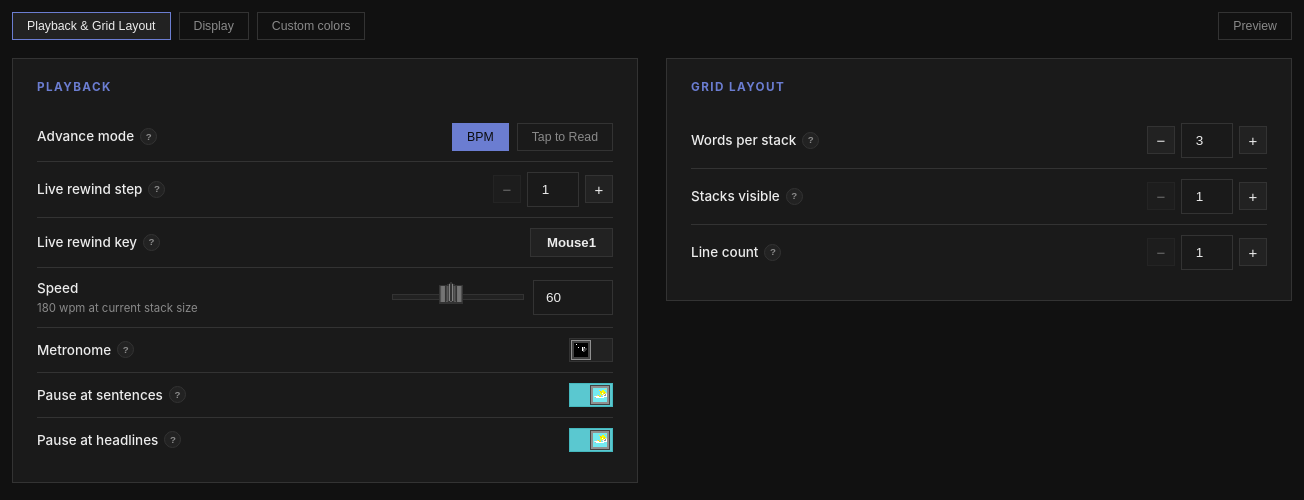
it: ReaderSettingsEditor — Settings host › renders the inline preview below Grid Layout inside the right column when open on Tab 1
The image size is (1304, 500).
Click the button "Preview": click(1255, 26) 1218,12 -> 1292,40
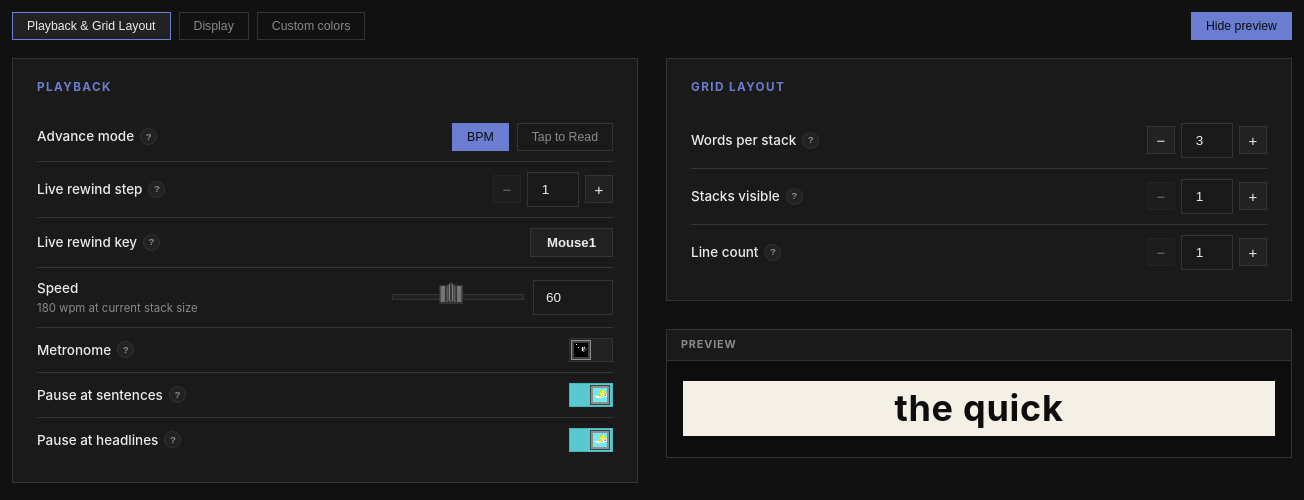
Expected: the element with class "rse-preview-inline" is shown, 666,328 -> 1292,458
